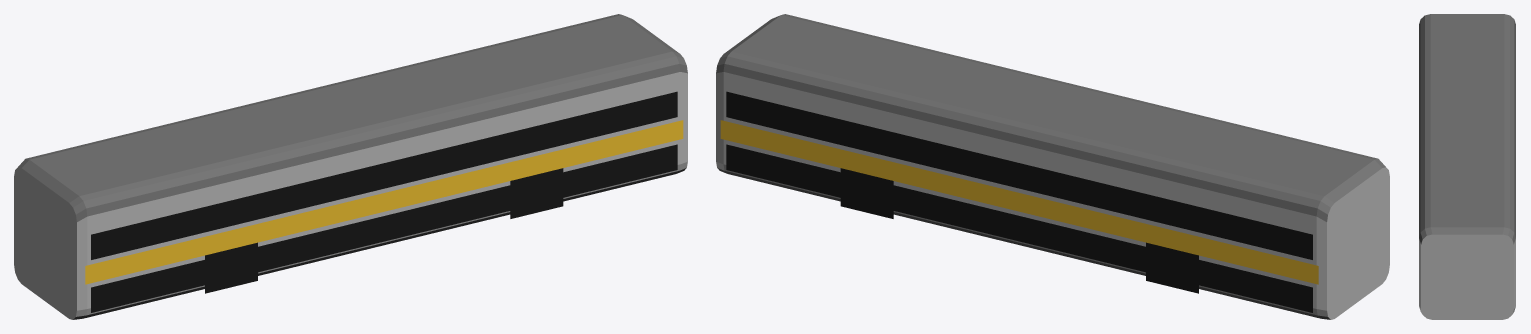
Rendered from rer_generic_C__neutral.glb.
3 views of the same model, side by side, from view 1: azimuth 30°, elevation 25°; view 2: azimuth 150°, elevation 25°; view 3: azimuth 270°, elevation 25° (orthographic). The views are drawn at different scales.
Parts seen in each view (by area): view 1: rer_generic_C__neutral; view 2: rer_generic_C__neutral; view 3: rer_generic_C__neutral.
Part boxes in pixels (left/top/right/bottom): rer_generic_C__neutral: left=14, top=14, right=687, bottom=319; rer_generic_C__neutral: left=716, top=14, right=1389, bottom=319; rer_generic_C__neutral: left=1419, top=14, right=1515, bottom=319.
Bounding box in the file's own units: 15 × 2.85 × 2.83.
